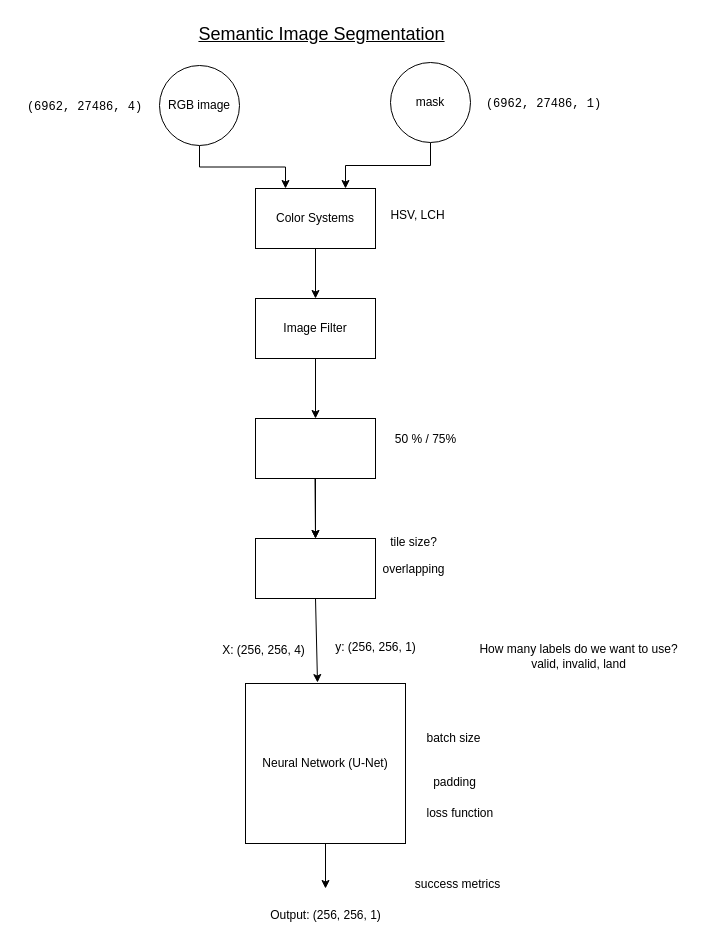
This 703x947 diagram has some shape labels left out. Each missing label, with the centre of its shape:
"Downsampling" belongs at point (315, 448).
"splitting" belongs at point (315, 568).
